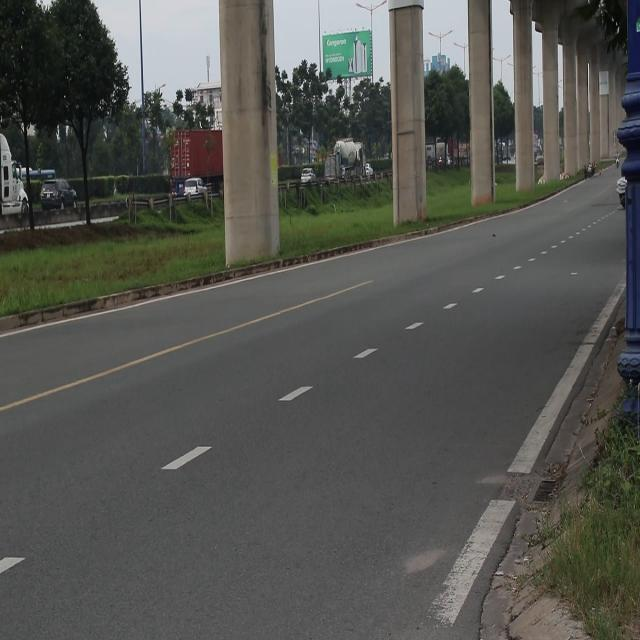car: (40, 179, 77, 210), (279, 168, 317, 188), (184, 180, 208, 200), (300, 168, 316, 185), (172, 180, 186, 198)
motorbike: (609, 180, 628, 224)
truck: (164, 129, 231, 188), (0, 130, 34, 227), (315, 147, 351, 204)
